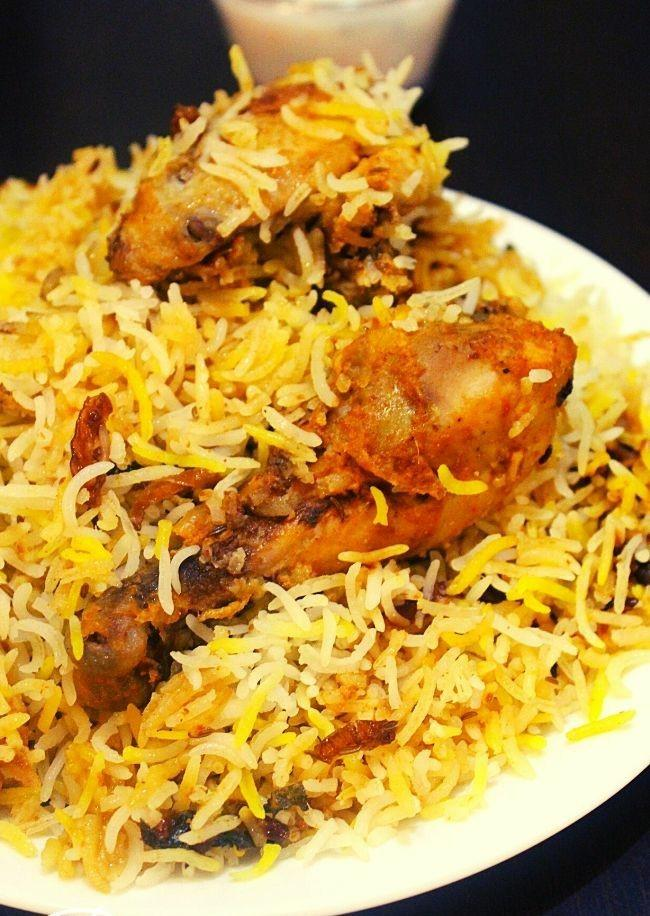Biryani: (0, 54, 650, 881)
